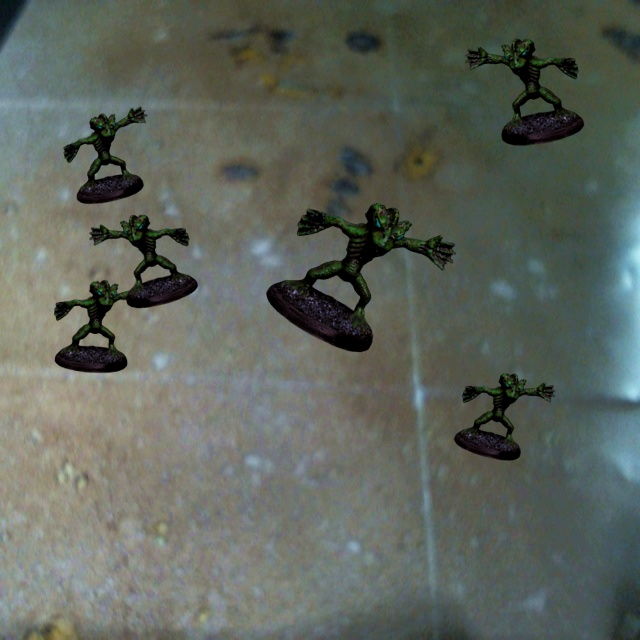pieza_juego: (266, 203, 455, 351), (465, 38, 583, 145), (89, 214, 197, 307), (54, 280, 151, 372), (454, 373, 554, 460), (63, 106, 147, 203)
